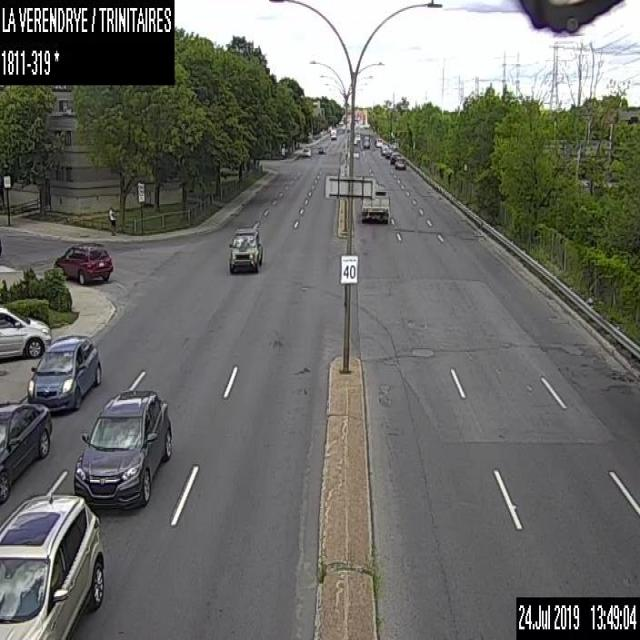pedestrian: (108, 204, 116, 235)
vehicle: (0, 491, 105, 638), (74, 389, 173, 511), (28, 334, 101, 412), (0, 399, 53, 505), (0, 304, 52, 361), (54, 236, 112, 287), (228, 226, 262, 272), (360, 184, 389, 223), (394, 156, 406, 169), (302, 143, 313, 157), (389, 151, 400, 163), (384, 147, 393, 158), (329, 127, 337, 139), (362, 135, 369, 148), (317, 144, 325, 153), (374, 137, 382, 146), (380, 144, 388, 152), (354, 132, 360, 141), (353, 137, 357, 145)
